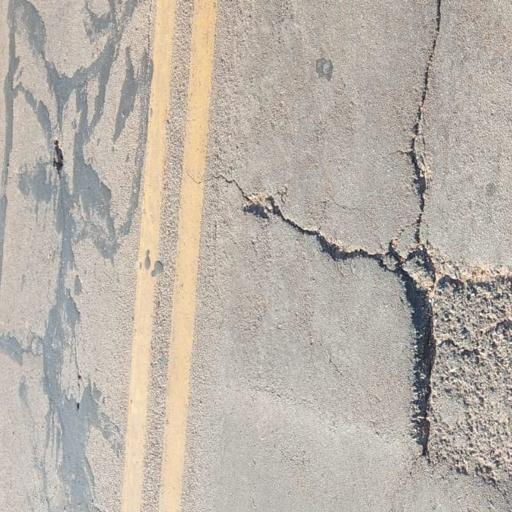GRIETA: (236, 183, 392, 260), (406, 0, 442, 242), (393, 267, 438, 457), (409, 242, 511, 289)
